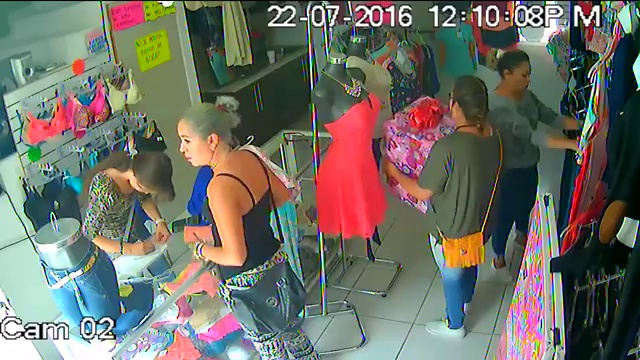face: (176, 121, 202, 168), (505, 58, 532, 91)
